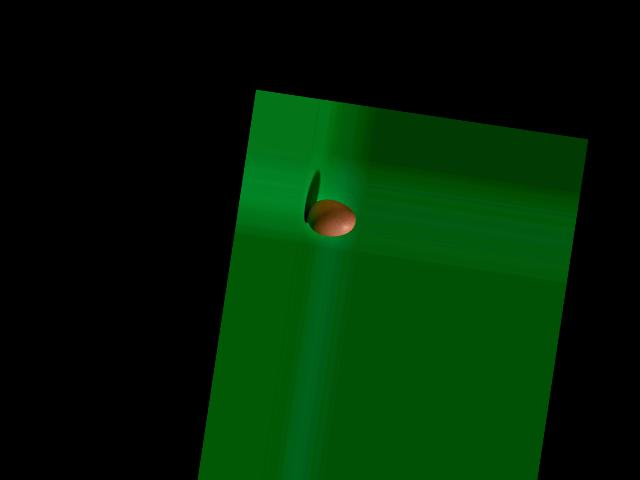egg: (304, 196, 357, 239)
